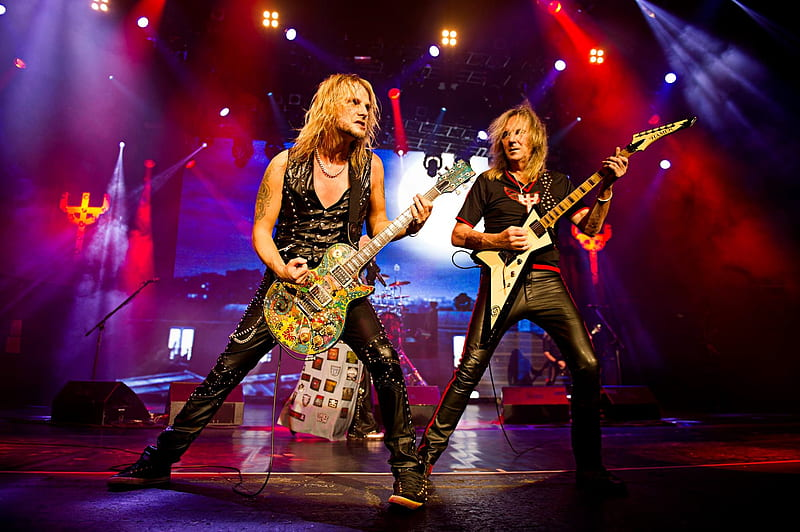acousticguitar: (475, 115, 697, 340), (266, 156, 474, 362)
